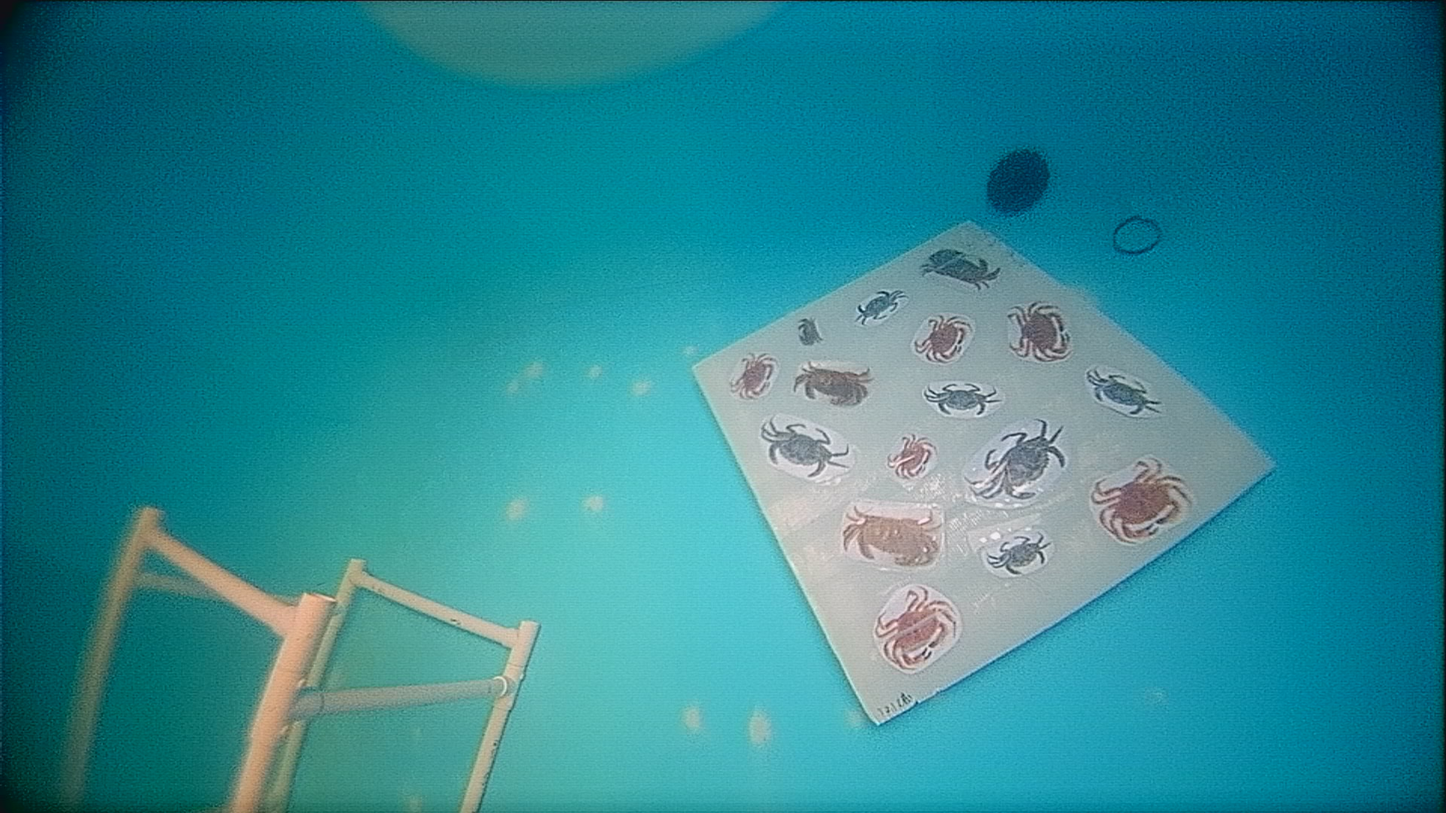GreenCrab: (973, 419, 1066, 500), (761, 419, 848, 477), (925, 384, 1000, 416), (987, 536, 1048, 574), (856, 290, 902, 323)
